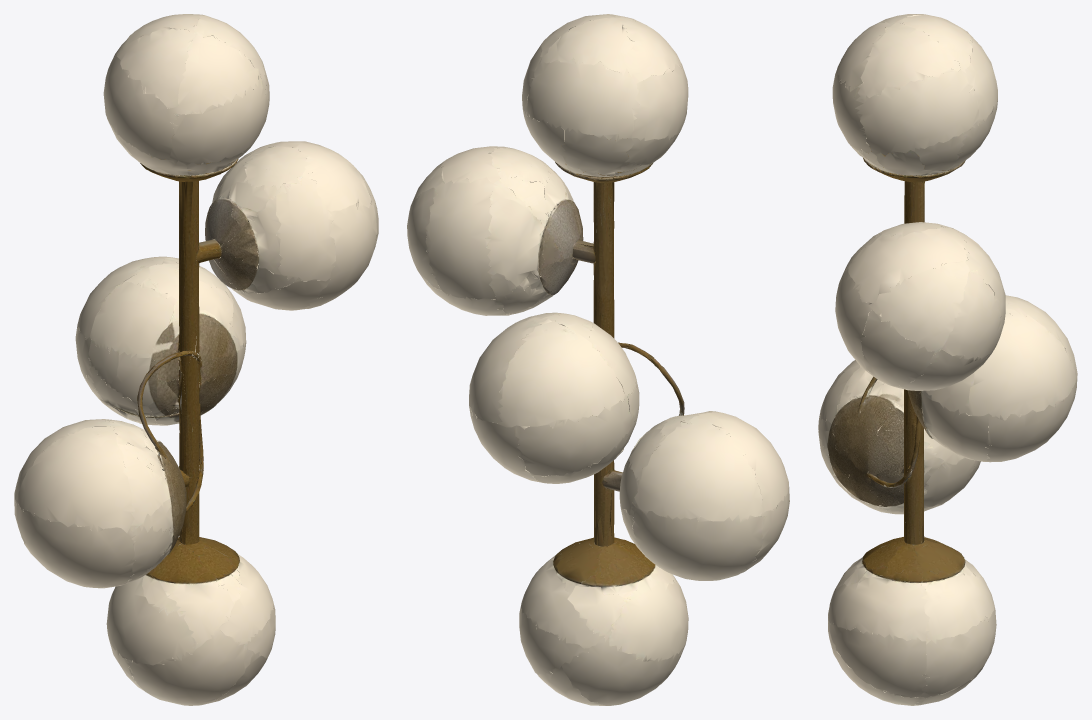
File: the-crafted-gesture-designer-5-globe-wall-lamp-luxury-bubble.glb
The picture shows the model from 3 angles, left to right: view 1: azimuth 30°, elevation 25°; view 2: azimuth 150°, elevation 25°; view 3: azimuth 270°, elevation 25°; orthographic projection.
Parts seen in each view (by area): view 1: Mesh_0; view 2: Mesh_0; view 3: Mesh_0.
Boxes of the visible parts, x1,y1,x2,y2 form: Mesh_0: (14, 14, 378, 705); Mesh_0: (407, 14, 789, 705); Mesh_0: (818, 14, 1077, 705).
Bounding box in the file's own units: 1.03 × 1.9 × 0.6629.
1 material, 1 textured.
